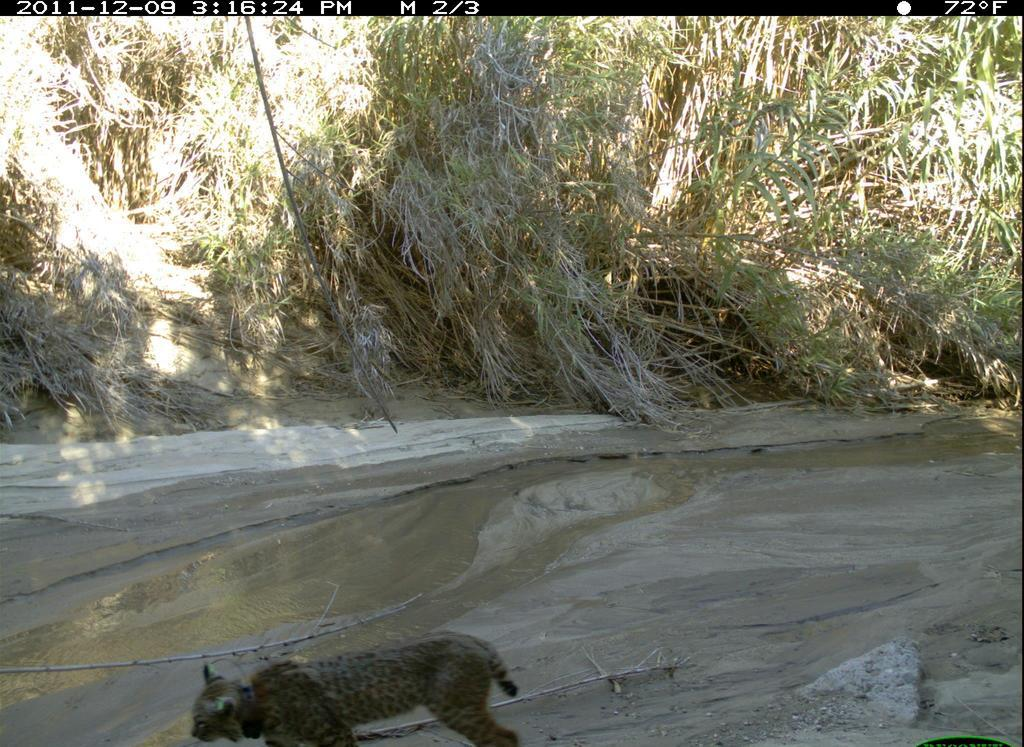bobcat: (184, 621, 533, 747)
